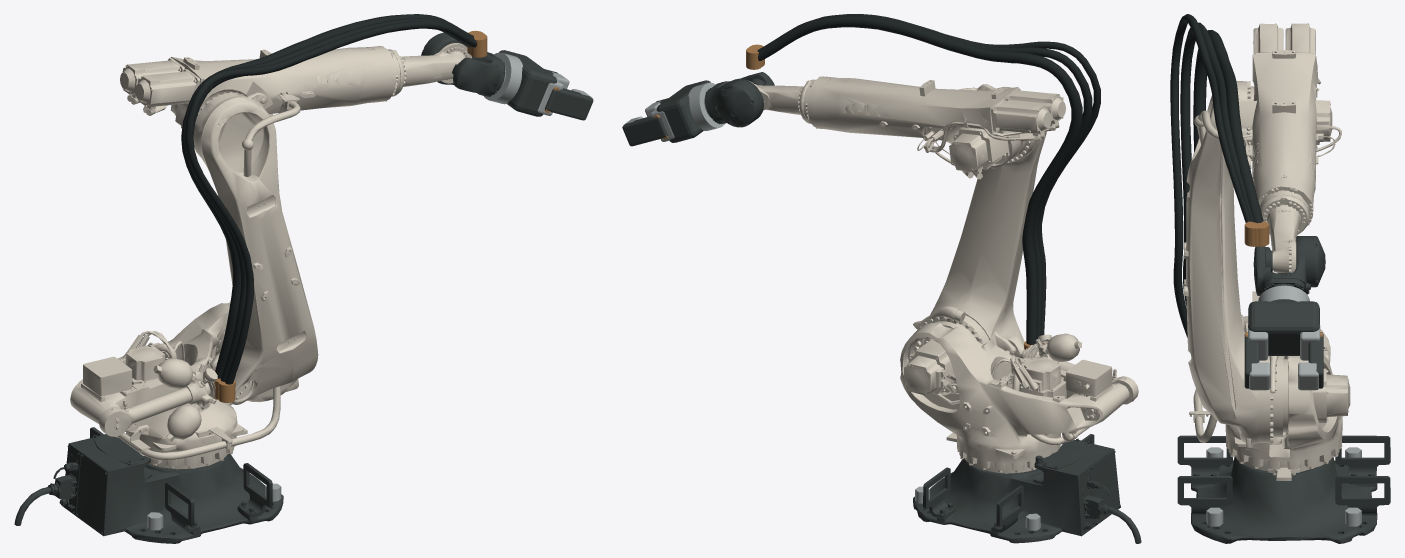
The model's file is kr210-portada.247ff18b.glb.
3 renders of one model, left to right at view 1: azimuth 30°, elevation 25°; view 2: azimuth 150°, elevation 25°; view 3: azimuth 270°, elevation 25°, orthographic. The views are drawn at different scales.
Parts seen in each view (by area): view 1: Carcasa marfil, Hierro grafito, Aislamiento de goma, Acero mecanizado, Conectores bronce; view 2: Carcasa marfil, Hierro grafito, Aislamiento de goma, Acero mecanizado; view 3: Carcasa marfil, Hierro grafito, Aislamiento de goma, Acero mecanizado, Conectores bronce.
Part boxes in pixels (left/top/right/bottom): Carcasa marfil: left=70, top=43, right=471, bottom=469; Hierro grafito: left=14, top=32, right=593, bottom=543; Aislamiento de goma: left=181, top=14, right=476, bottom=384; Acero mecanizado: left=147, top=52, right=592, bottom=530; Conectores bronce: left=213, top=30, right=559, bottom=402; Carcasa marfil: left=749, top=76, right=1138, bottom=473; Hierro grafito: left=622, top=72, right=1141, bottom=543; Aislamiento de goma: left=757, top=14, right=1100, bottom=344; Acero mecanizado: left=623, top=82, right=1040, bottom=530; Carcasa marfil: left=1184, top=23, right=1350, bottom=480; Hierro grafito: left=1177, top=236, right=1390, bottom=543; Aislamiento de goma: left=1170, top=14, right=1263, bottom=337; Acero mecanizado: left=1206, top=285, right=1361, bottom=526; Conectores bronce: left=1244, top=221, right=1322, bottom=336.
Size of the model in its own units: 2.7 by 2.16 by 0.8906.
